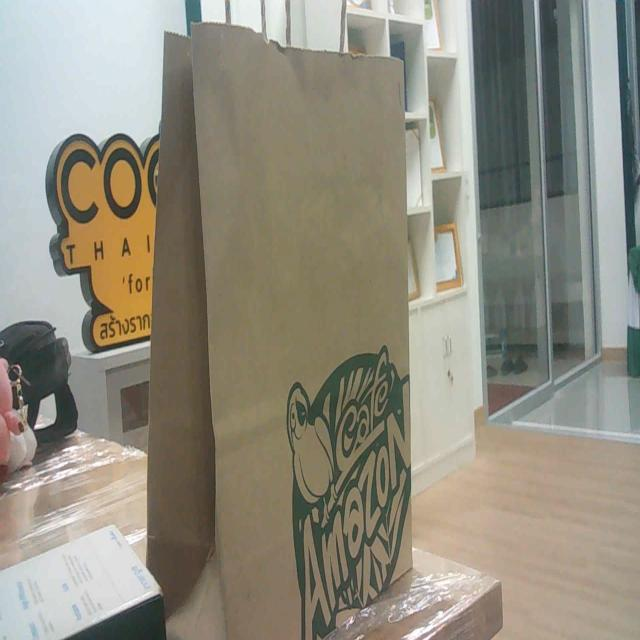bag: (145, 0, 421, 634)
